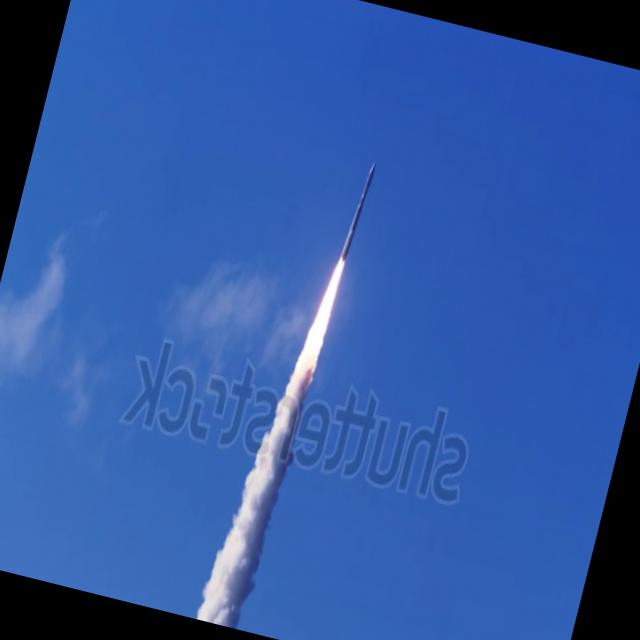rocket: (249, 149, 382, 516)
